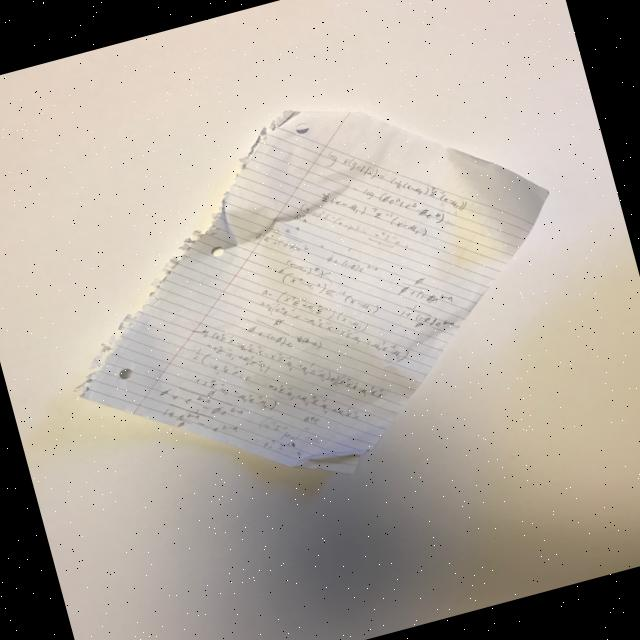paper: (18, 48, 607, 537)
